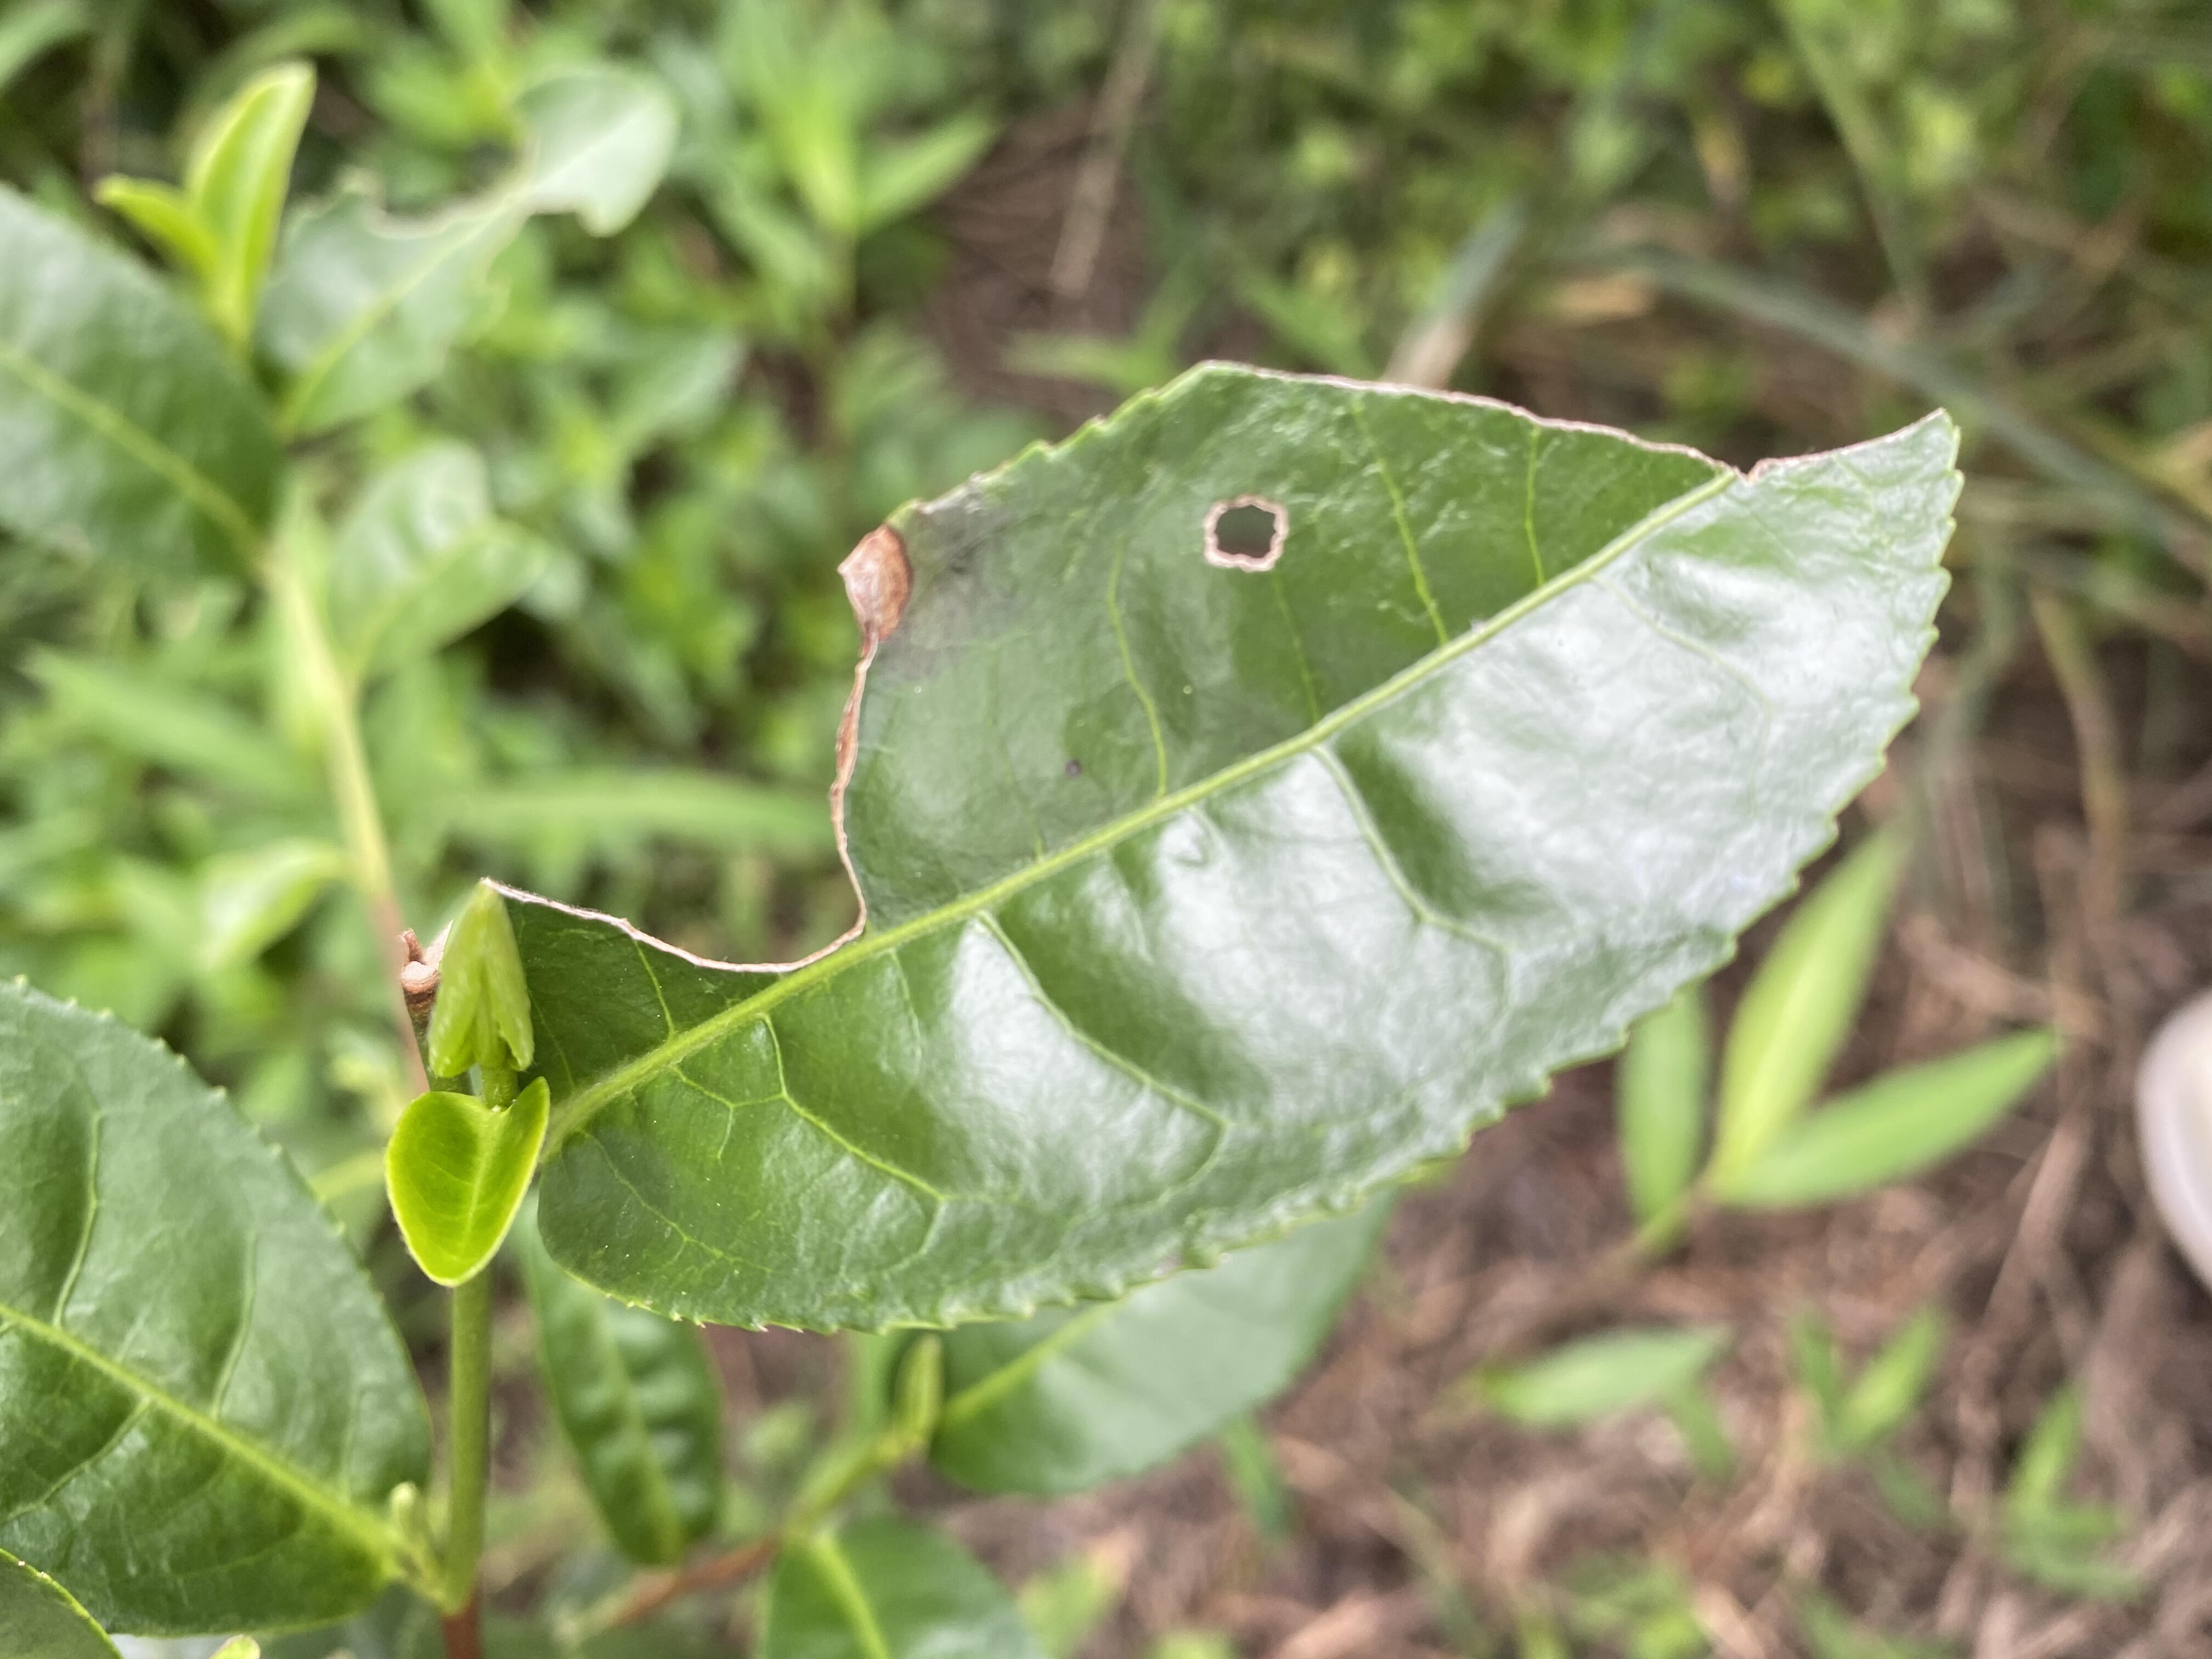chihuo_high: (484, 356, 1966, 1337)
healthy: (381, 1075, 550, 1295)
